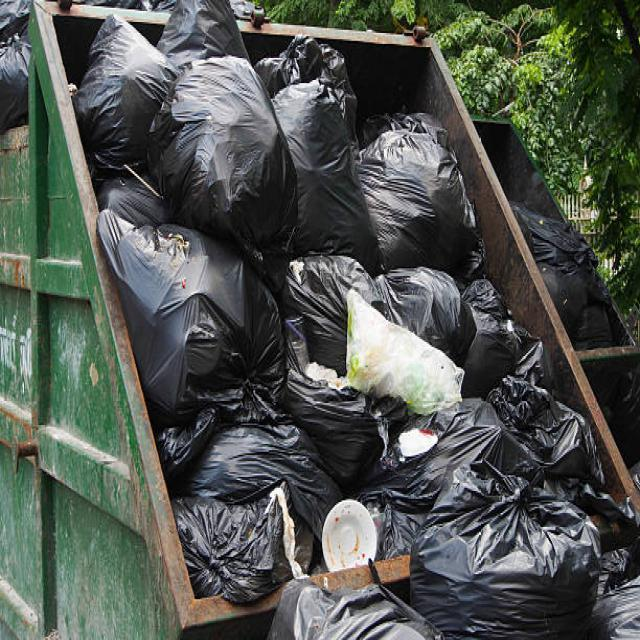Trashbag: (106, 243, 276, 397), (168, 74, 299, 244), (426, 477, 580, 619), (50, 37, 159, 199), (376, 106, 477, 264), (302, 62, 373, 250), (159, 420, 315, 492), (169, 508, 279, 604), (293, 354, 386, 464), (479, 386, 583, 476), (539, 204, 613, 317), (285, 253, 371, 350), (284, 592, 452, 640), (367, 268, 459, 344), (468, 292, 538, 391), (390, 412, 481, 476)
